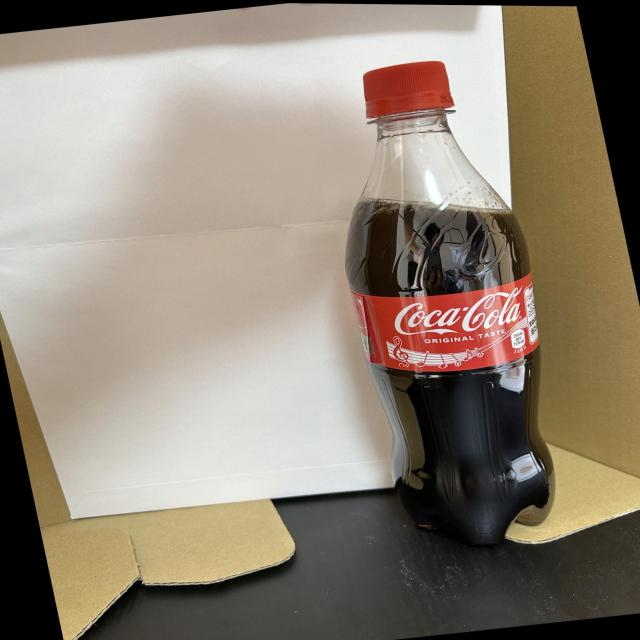high: (345, 62, 554, 546)
